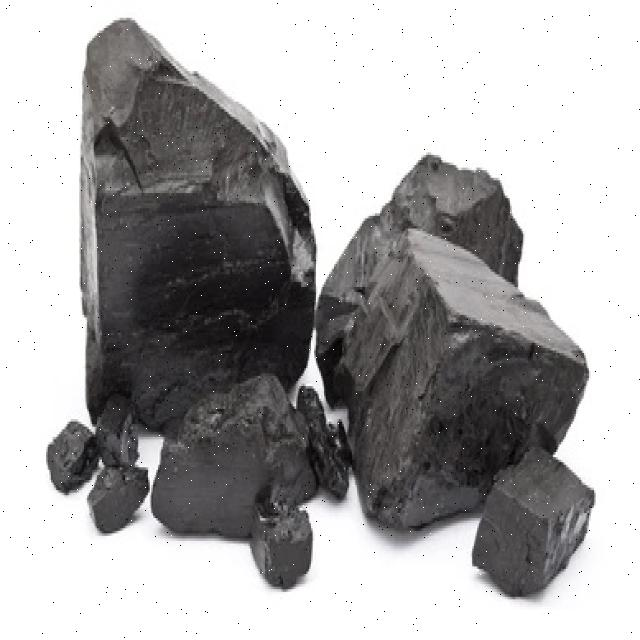Sedimentary: (51, 13, 597, 604)
